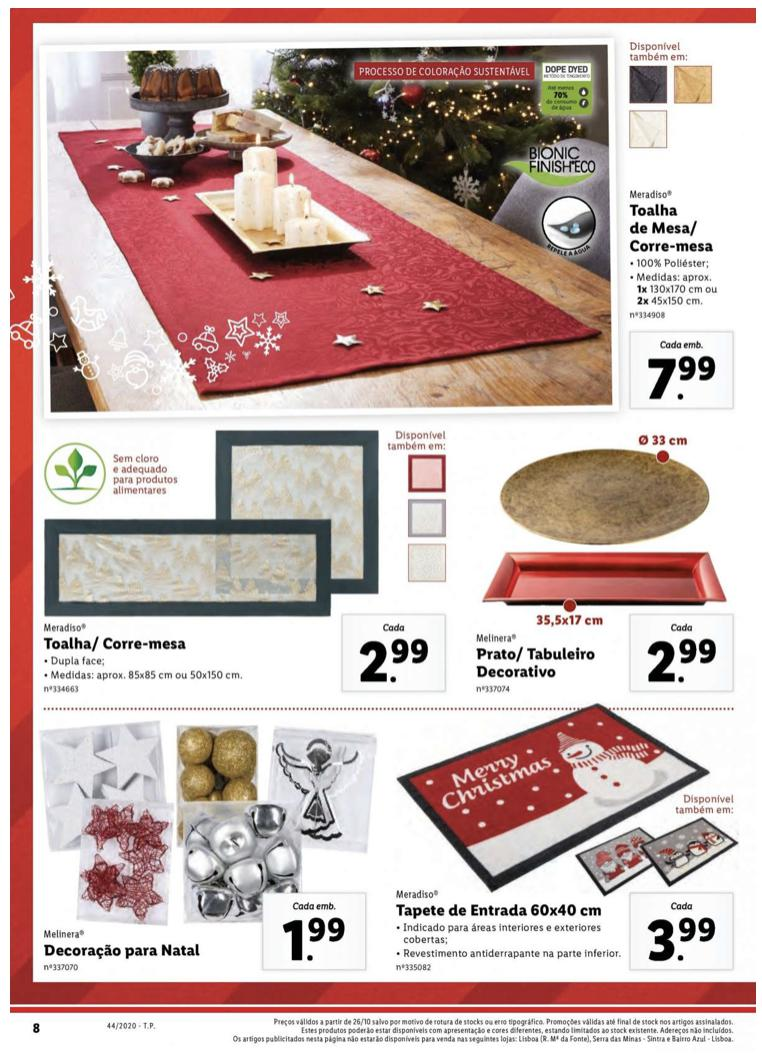name: (620, 196, 719, 259), (466, 642, 599, 684), (35, 937, 211, 968), (391, 900, 614, 924), (41, 633, 194, 655)
price: (624, 321, 735, 413), (339, 606, 449, 695), (260, 891, 368, 972), (631, 893, 735, 967), (635, 617, 732, 692)
product: (35, 35, 746, 417), (36, 422, 452, 706), (381, 699, 750, 992), (29, 718, 381, 992), (452, 426, 741, 706)
